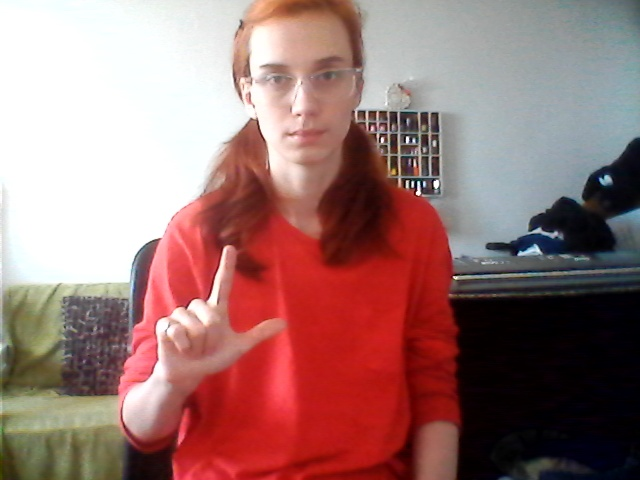l: (146, 242, 290, 385)
